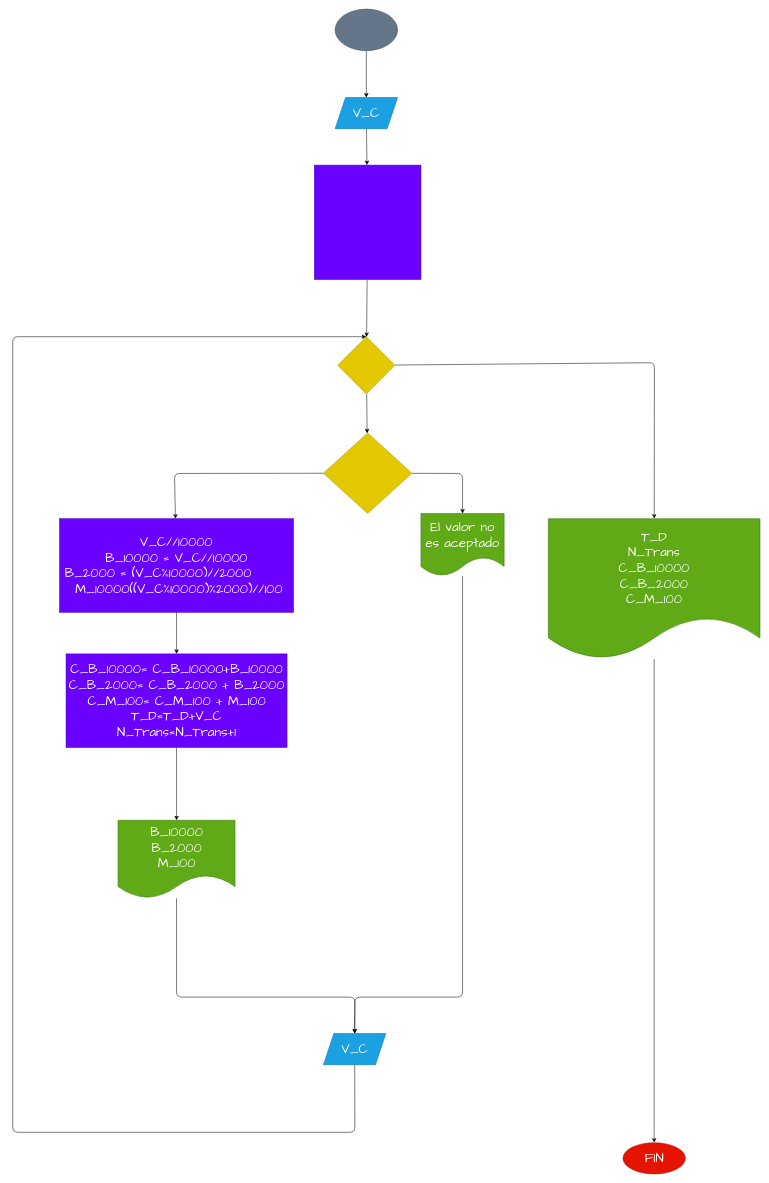
This 769x1183 diagram has some shape labels left out. Here are the shapes that lost their labels. From the top down, the centre of each, then its label:
At [366,30]: "Inicio".
At [367,222]: "T_D=0 N_Trans=0 B_10000=0 B_2000=0 M_100=0 C_B_10000=0 C_B_2000=0 C_M_100=0".
At [366,365]: "V_C!=0".
At [367,473]: "V_C//100=0".
